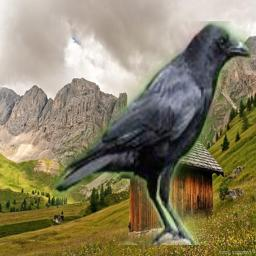Crow: (54, 21, 251, 245)
